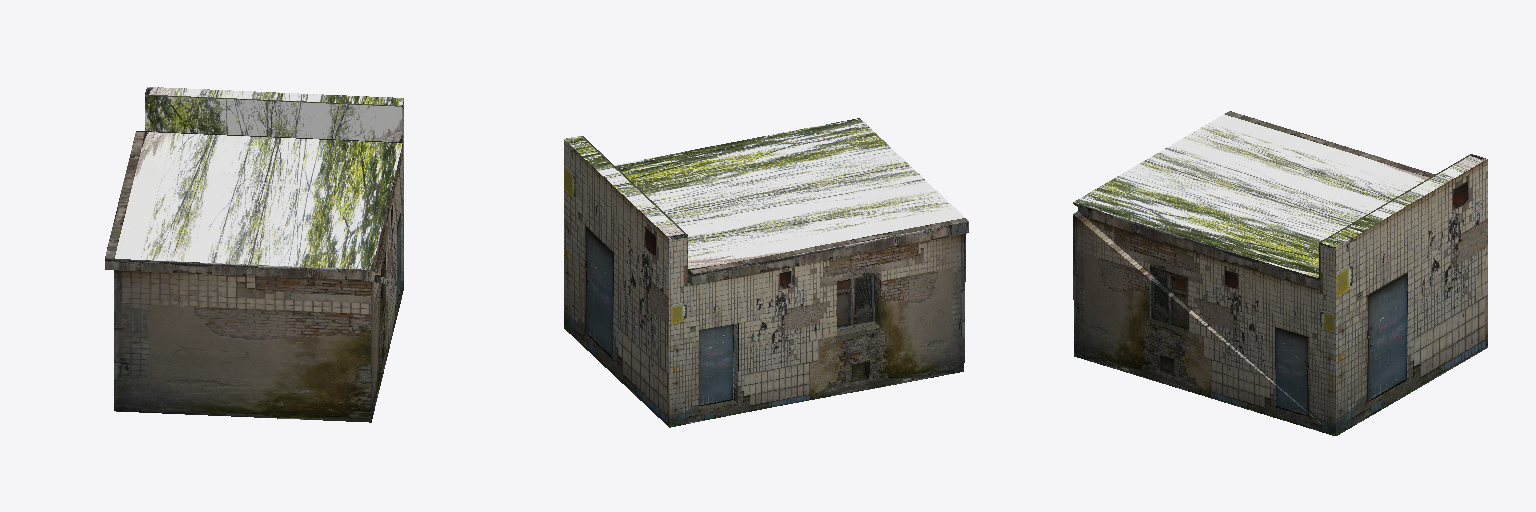
The picture shows the model from 3 angles: view 1: azimuth 30°, elevation 25°; view 2: azimuth 150°, elevation 25°; view 3: azimuth 270°, elevation 25°; orthographic projection.
Parts seen in each view (by area): view 1: Plane.002; view 2: Plane.002; view 3: Plane.002.
Part boxes in pixels (x1,y1,x2,y2): Plane.002: (105, 87, 403, 422); Plane.002: (564, 118, 968, 427); Plane.002: (1073, 111, 1487, 435).
Bounding box in the file's own units: 16.1 × 8.25 × 16.41.
Materials: 3 (1 with a texture image).